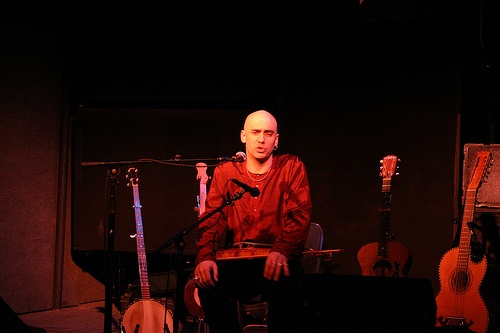head: (241, 110, 280, 161)
person: (188, 108, 313, 329)
